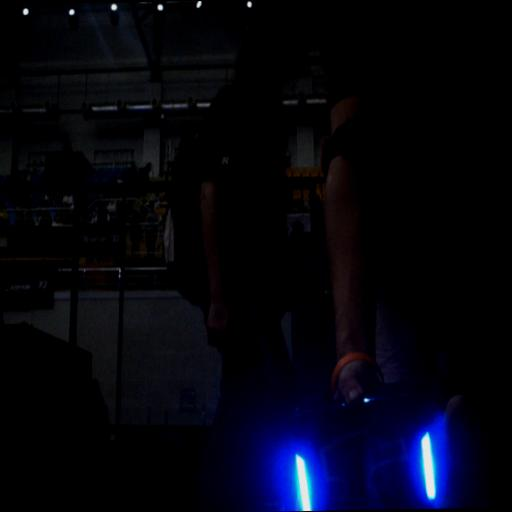target: (276, 398, 458, 512)
